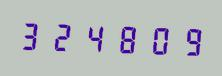eight: (111, 20, 141, 57)
four: (80, 18, 110, 55)
nine: (173, 22, 203, 59)
three: (17, 16, 47, 53)
two: (48, 17, 78, 54)
zero: (142, 21, 172, 58)
